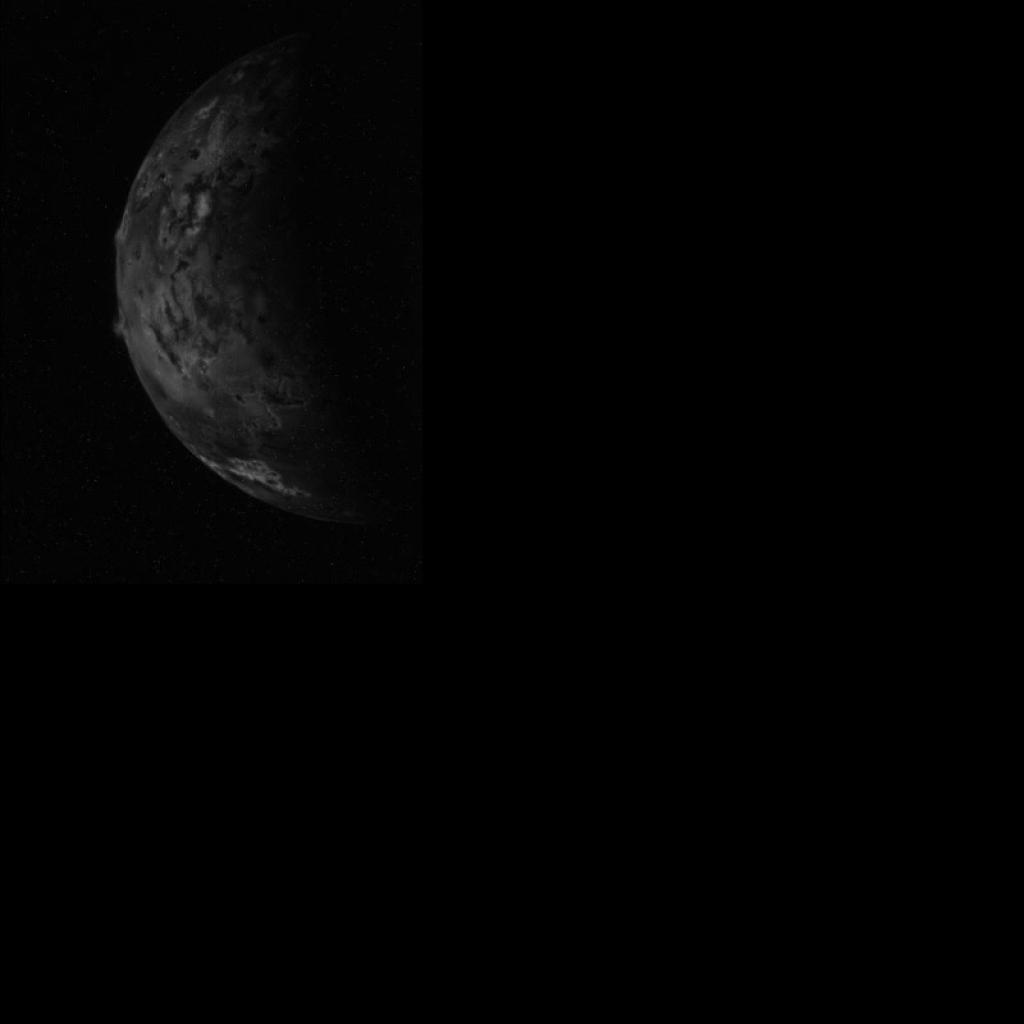plumes: (111, 318, 125, 339), (112, 224, 121, 244)
